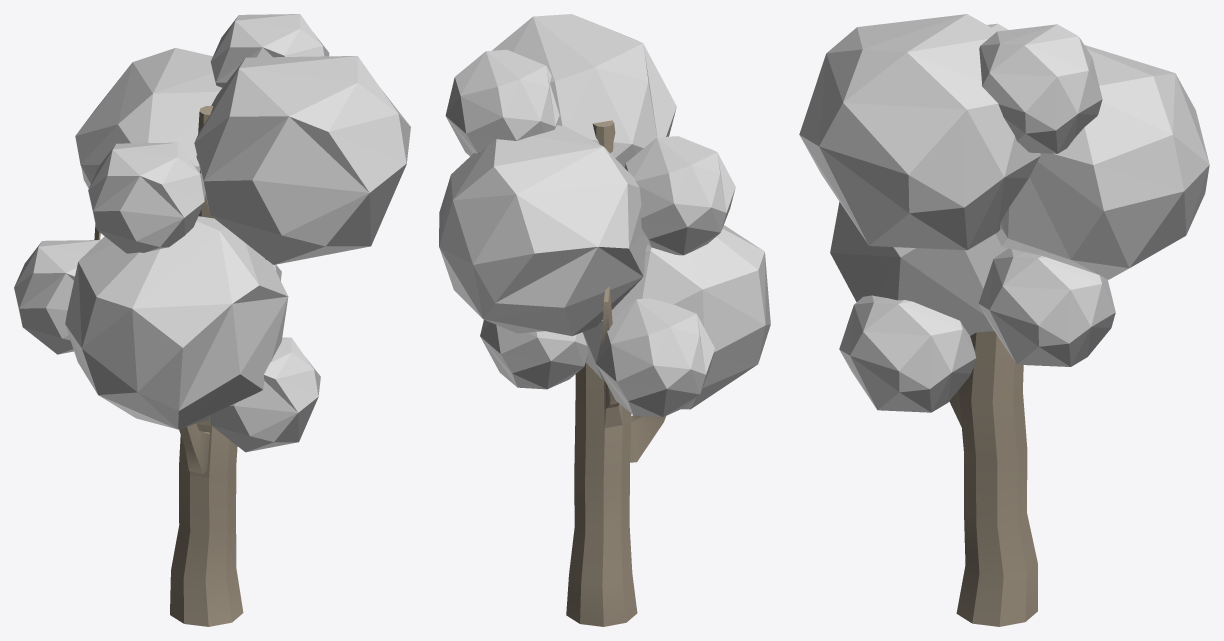
File: Tree1.fbx
3 views of the same model, side by side, from view 1: azimuth 30°, elevation 25°; view 2: azimuth 150°, elevation 25°; view 3: azimuth 270°, elevation 25° (orthographic). The views are drawn at different scales.
Visible parts, largest first — view 1: pSphere3, pSphere4, Wood, pSphere5, pSphere10, pSphere11, pSphere13, pSphere12; view 2: pSphere5, Wood, pSphere3, pSphere4, pSphere13, pSphere10, pSphere12, pSphere9; view 3: pSphere3, pSphere5, Wood, pSphere11, pSphere9, pSphere12, pSphere4.
Part boxes in pixels (bbox=[...]): pSphere3: bbox=[194, 56, 410, 264]; pSphere4: bbox=[65, 216, 288, 429]; Wood: bbox=[94, 106, 266, 626]; pSphere5: bbox=[75, 48, 221, 188]; pSphere10: bbox=[88, 142, 205, 253]; pSphere11: bbox=[209, 337, 320, 452]; pSphere13: bbox=[14, 240, 100, 354]; pSphere12: bbox=[210, 14, 329, 87]; pSphere5: bbox=[439, 125, 647, 336]; Wood: bbox=[566, 120, 665, 626]; pSphere3: bbox=[492, 14, 676, 167]; pSphere4: bbox=[582, 225, 770, 409]; pSphere13: bbox=[596, 298, 714, 417]; pSphere10: bbox=[624, 136, 735, 255]; pSphere12: bbox=[445, 49, 559, 156]; pSphere9: bbox=[480, 320, 588, 389]; pSphere3: bbox=[799, 14, 1040, 250]; pSphere5: bbox=[995, 45, 1209, 279]; Wood: bbox=[949, 331, 1037, 626]; pSphere11: bbox=[839, 295, 976, 412]; pSphere9: bbox=[978, 248, 1115, 366]; pSphere12: bbox=[979, 24, 1102, 153]; pSphere4: bbox=[830, 202, 1007, 335].
Bounding box in the file's own units: 1.77 × 3.04 × 1.82.
Materials: 2 (1 with a texture image).
